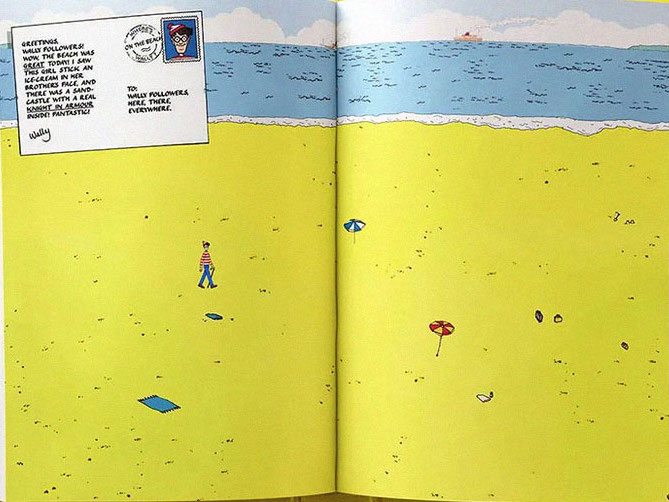Waldo: (164, 19, 196, 61), (201, 239, 214, 289)
